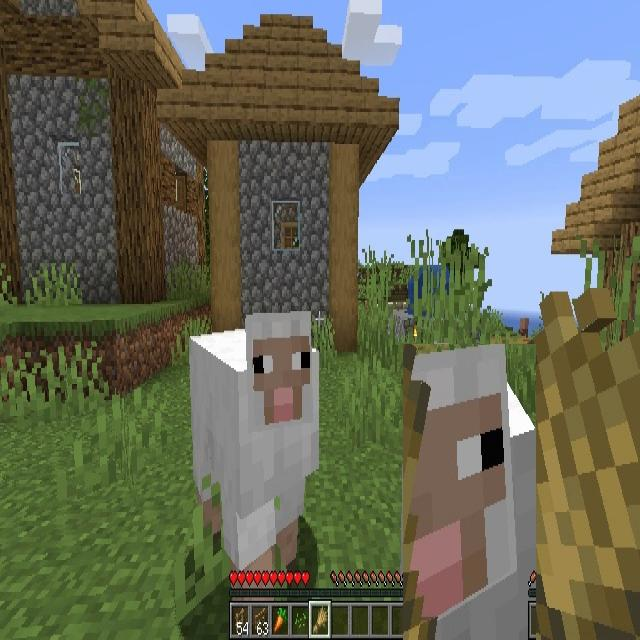sheep: (403, 344, 536, 640), (190, 314, 319, 565)
